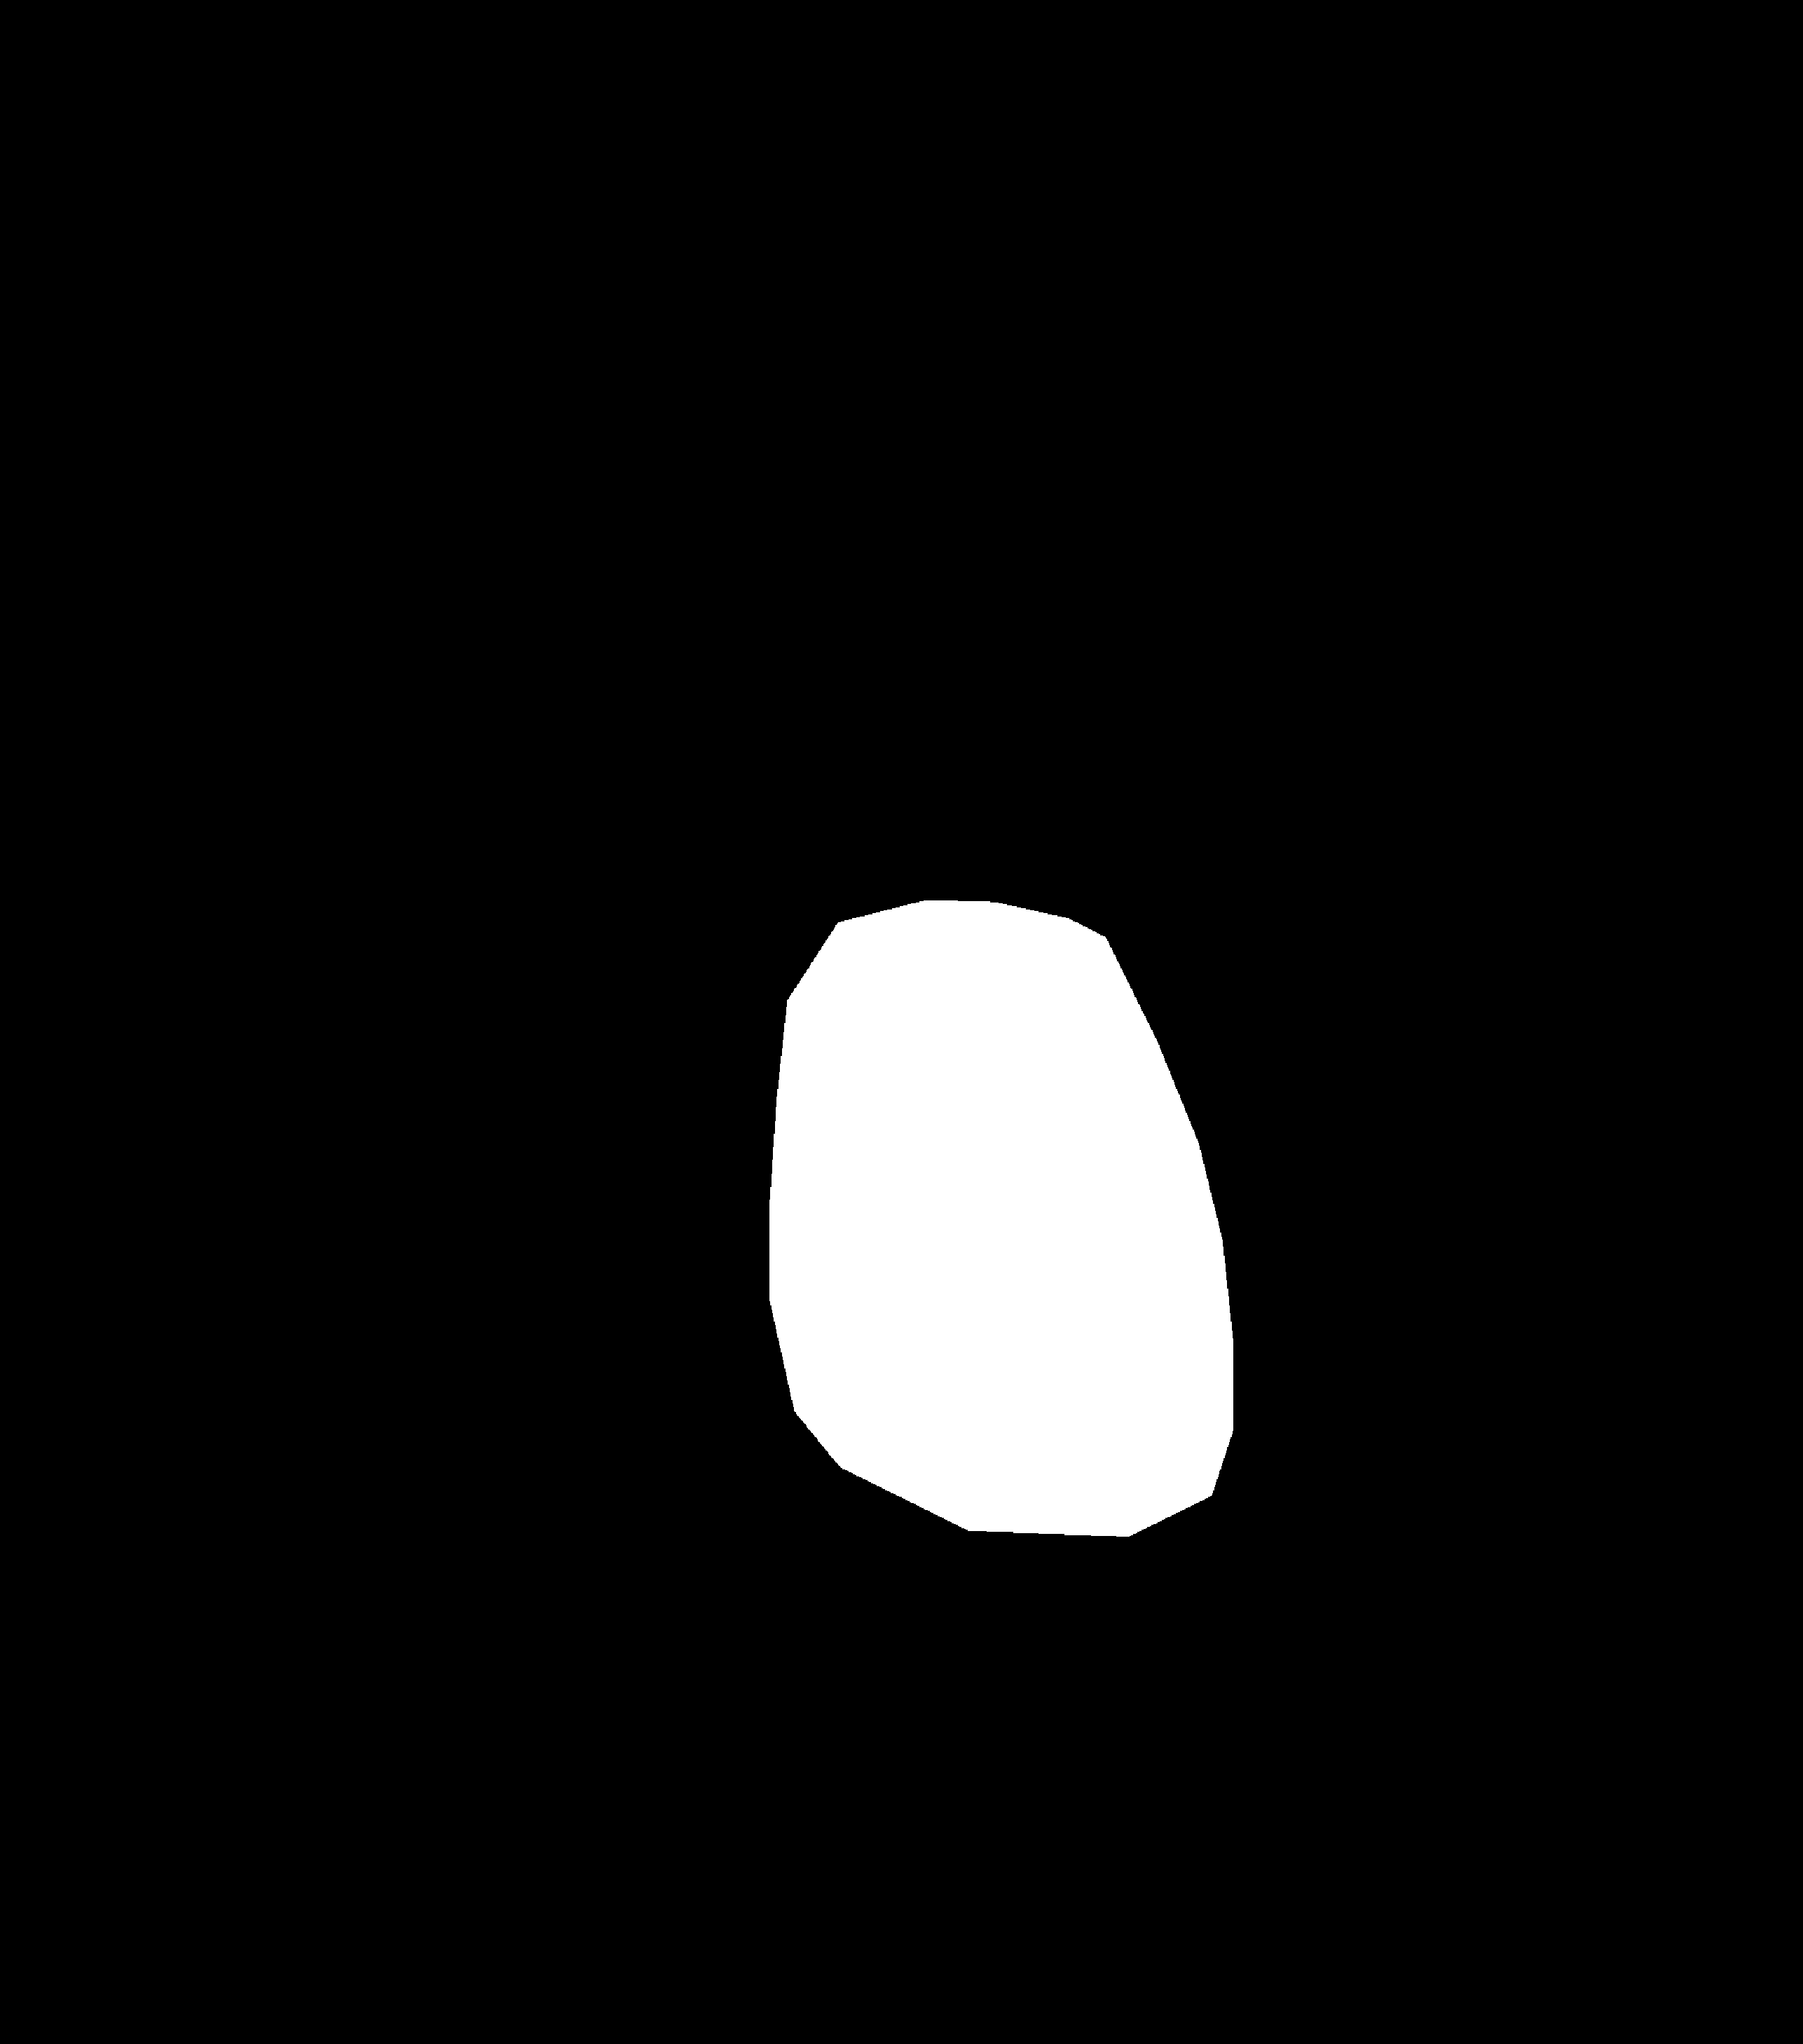heart: (767, 985, 1237, 1557)
left_lung: (230, 237, 809, 1707)
right_lung: (961, 214, 1551, 1752)
